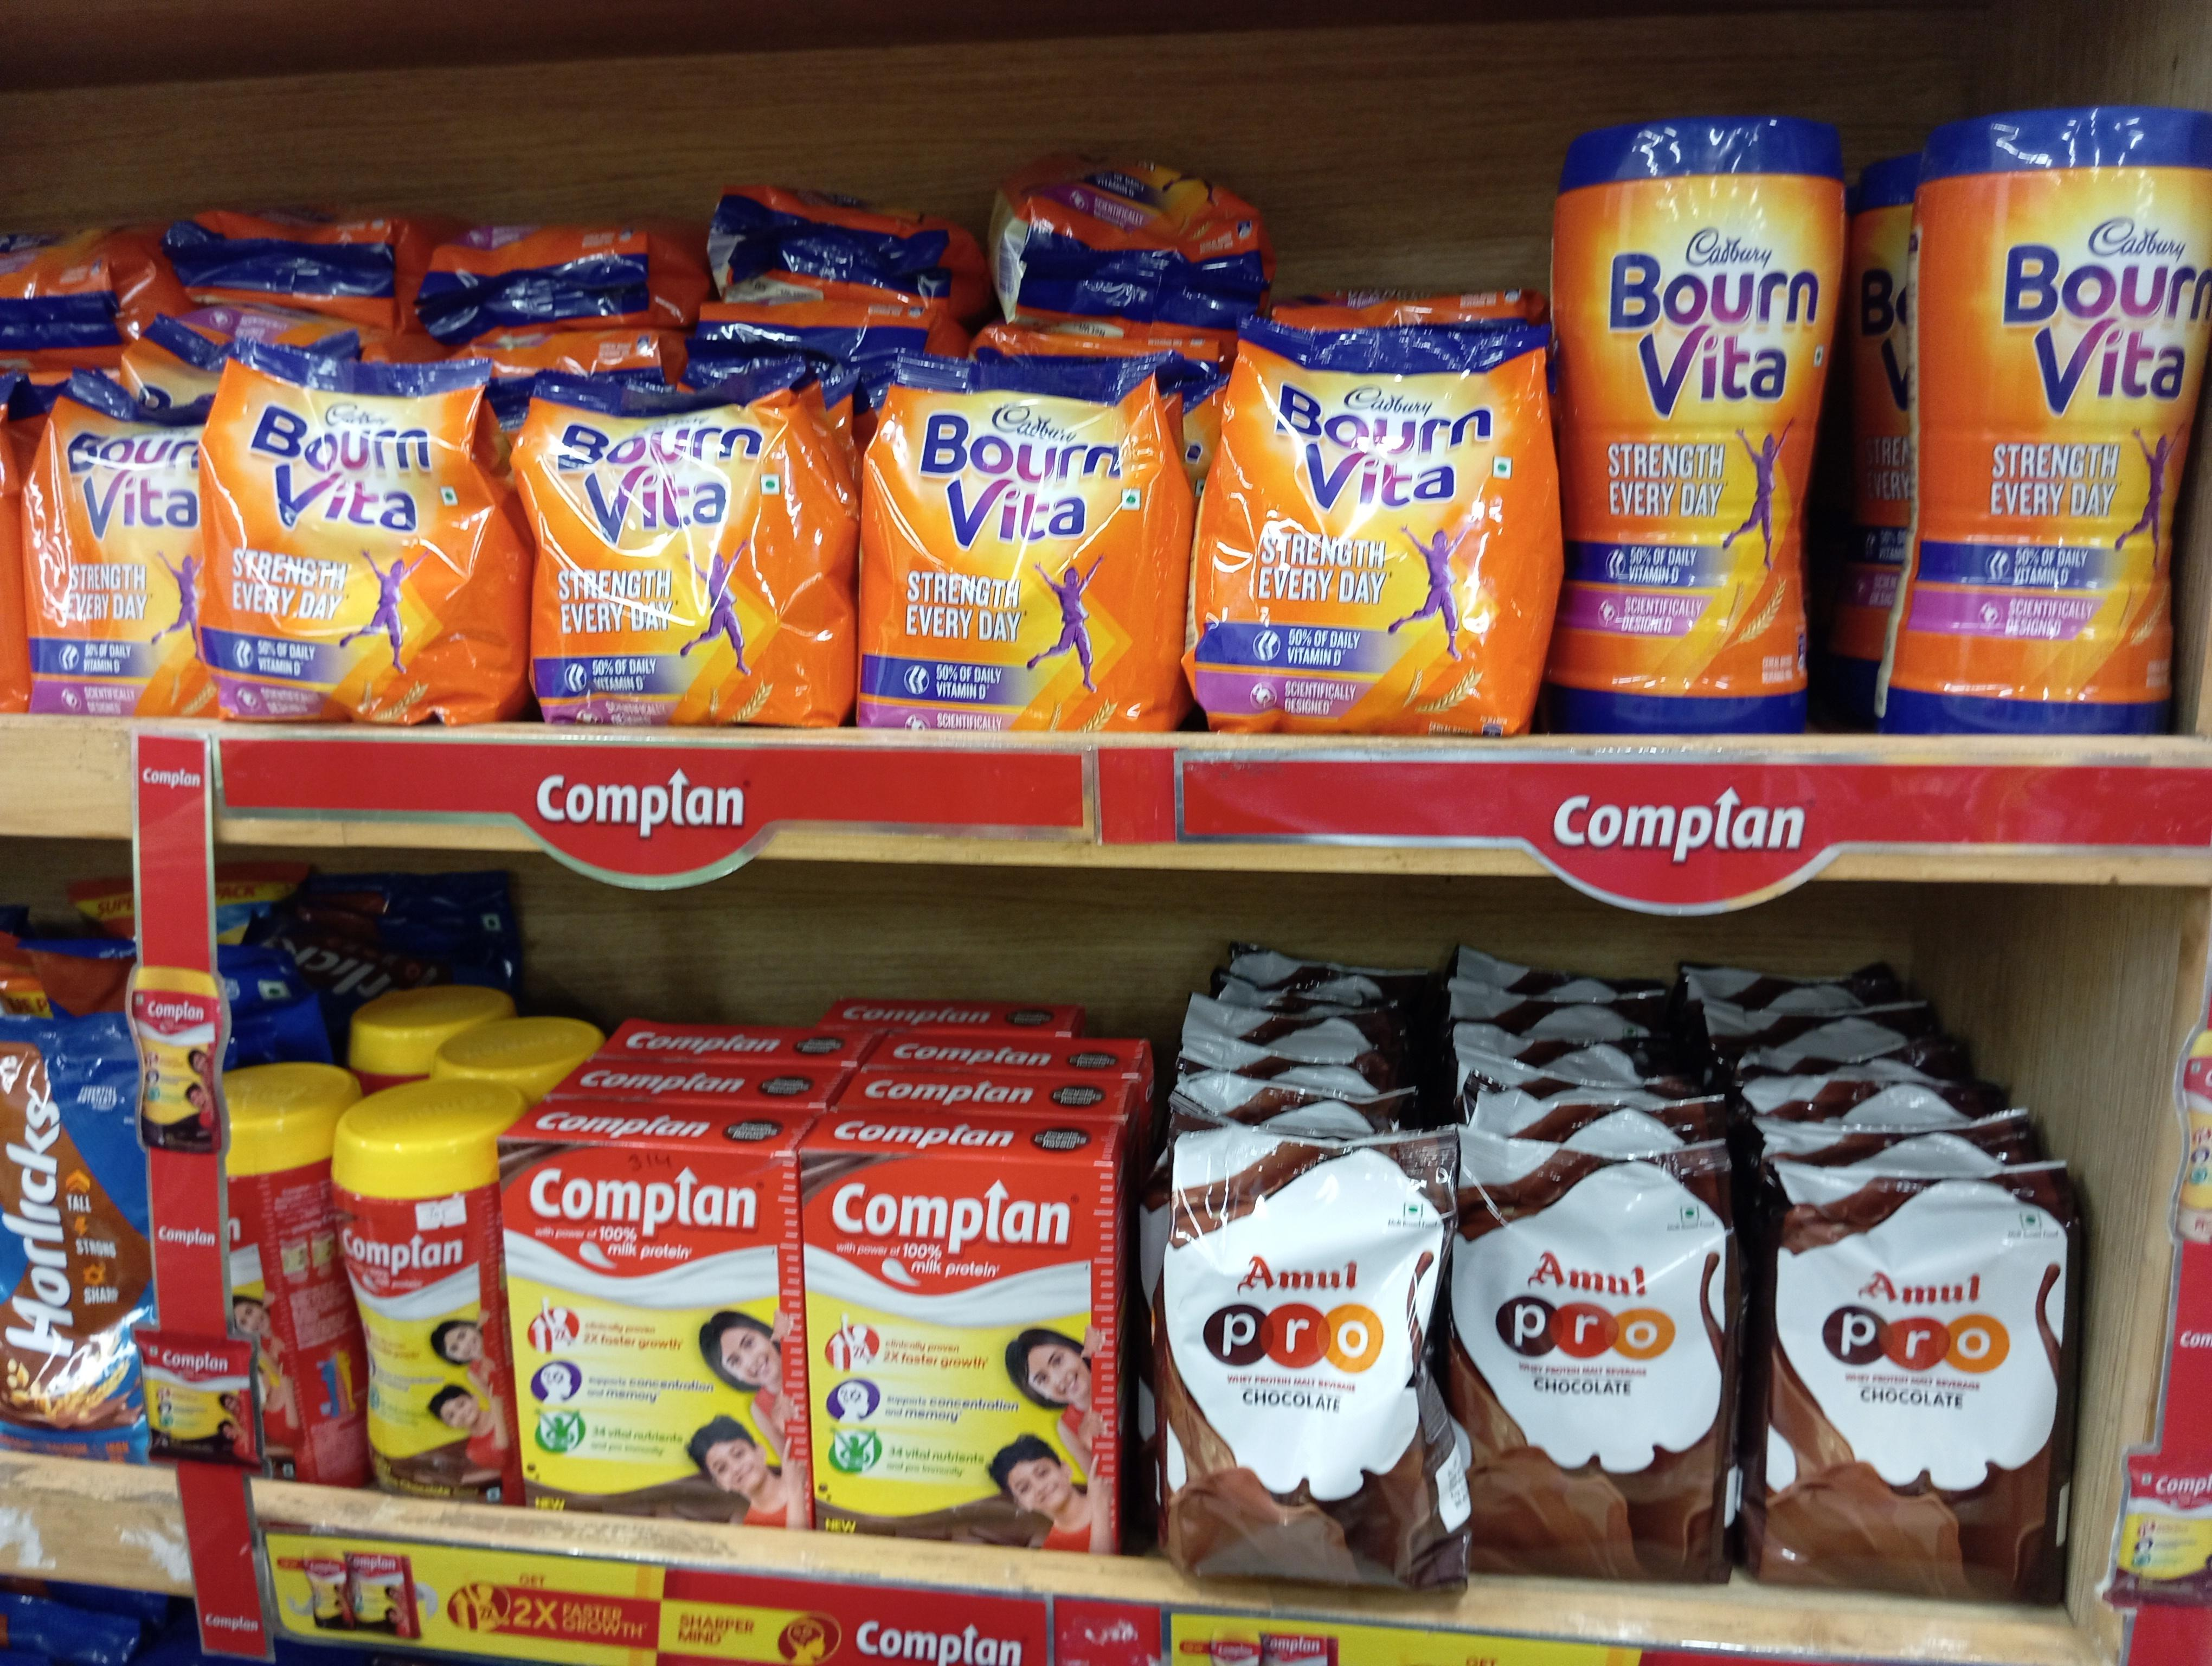BOURN_VITA_1_KG_JAR: (1892, 96, 2209, 733), (1562, 119, 1831, 738)
BOURN_VITA_500_G_POUCH: (1193, 303, 1542, 738), (516, 362, 853, 725), (869, 343, 1177, 731), (203, 352, 502, 719)
COMPLAN_CHOCOLATE_500_GMS_JAR: (334, 1104, 509, 1500)
COMPLAN_CHOCOLATE_500_GMS_PACK: (815, 1152, 1117, 1554), (516, 1132, 801, 1529)
